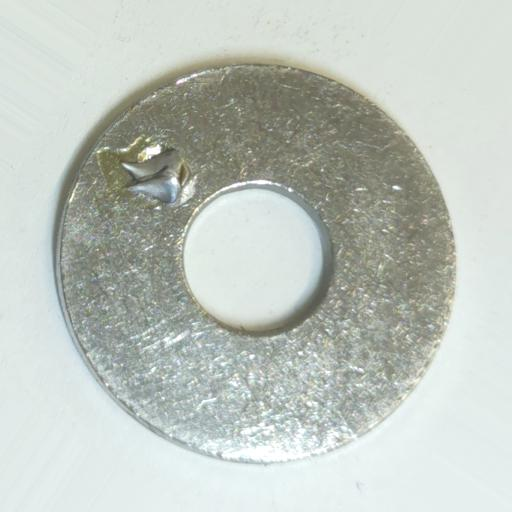excess_material: (120, 148, 184, 205)
